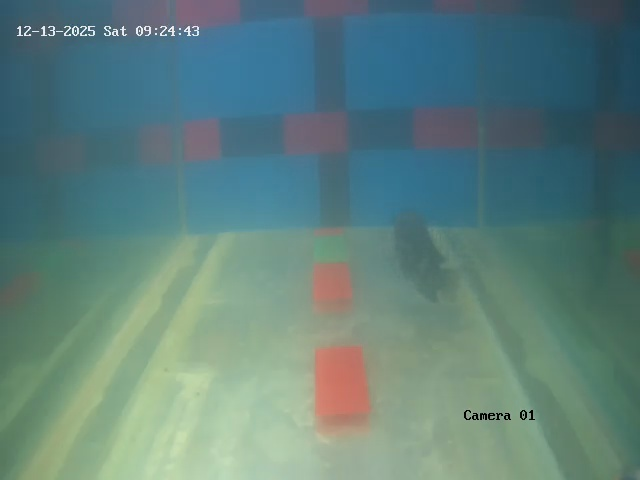fish: (385, 209, 467, 293)
